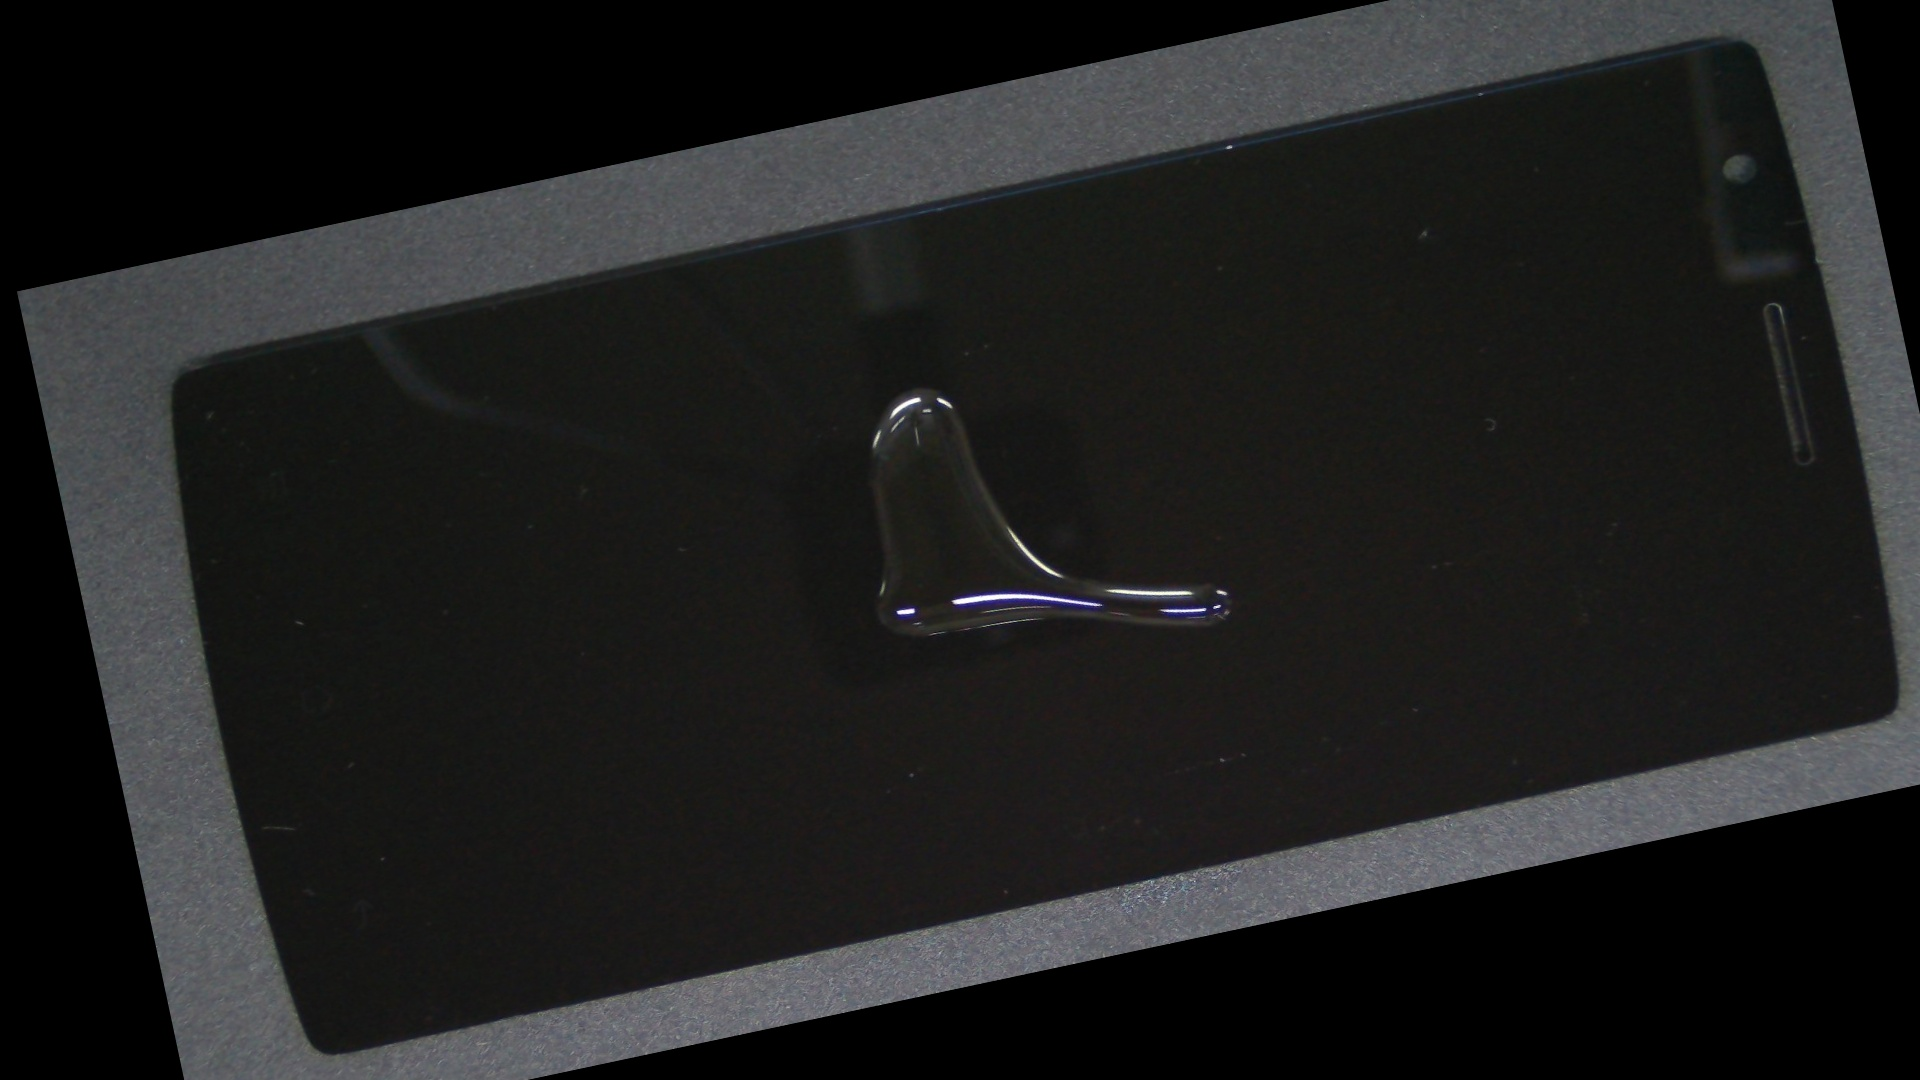oil: (463, 164, 1354, 615)
